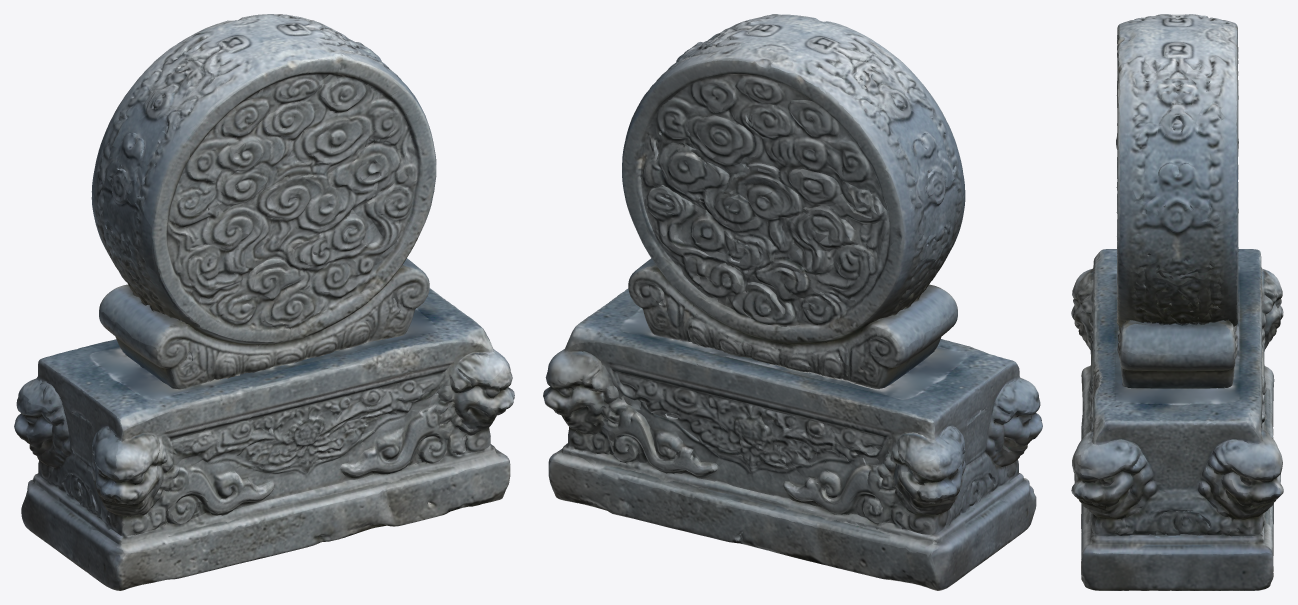
File: gate-pier_textured.glb
The picture shows the model from 3 angles, left to right: view 1: azimuth 30°, elevation 25°; view 2: azimuth 150°, elevation 25°; view 3: azimuth 270°, elevation 25°; orthographic projection. The views are drawn at different scales.
Parts seen in each view (by area): view 1: geometry_0; view 2: geometry_0; view 3: geometry_0.
Boxes of the visible parts, x1,y1,x2,y2 form: geometry_0: (14,14,514,590); geometry_0: (543,14,1042,590); geometry_0: (1071,14,1283,590).
Size of the model in its own units: 0.9904 by 1.1 by 0.4559.
Materials: 1 (1 with a texture image).
